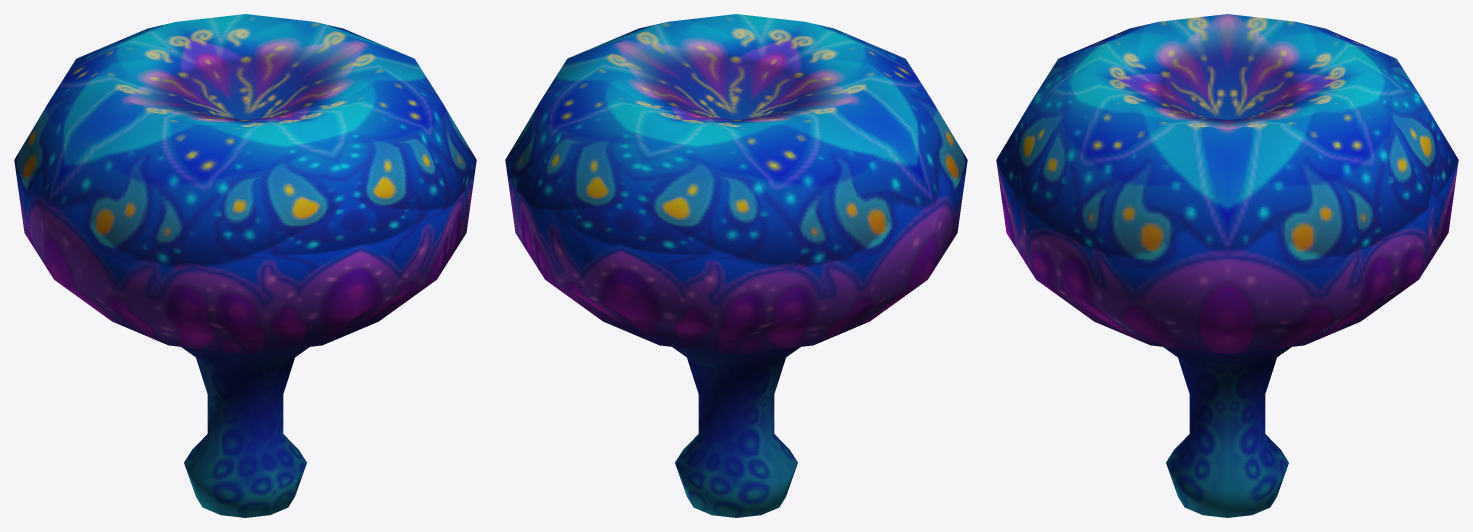
File: Mushroom_06b.FBX
3 views of the same model, side by side, from view 1: azimuth 30°, elevation 25°; view 2: azimuth 150°, elevation 25°; view 3: azimuth 270°, elevation 25° (orthographic).
Parts seen in each view (by area): view 1: Mushroom_06b; view 2: Mushroom_06b; view 3: Mushroom_06b.
Part boxes in pixels (x1,y1,x2,y2): Mushroom_06b: [14, 14, 476, 517]; Mushroom_06b: [505, 14, 967, 517]; Mushroom_06b: [996, 14, 1458, 517].
Bounding box in the file's own units: 111 × 115 × 111.
